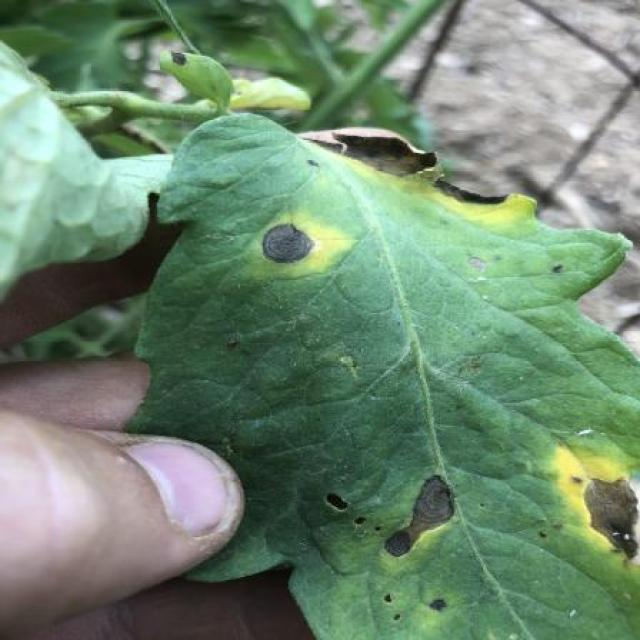Early Blight: (127, 114, 640, 640)
